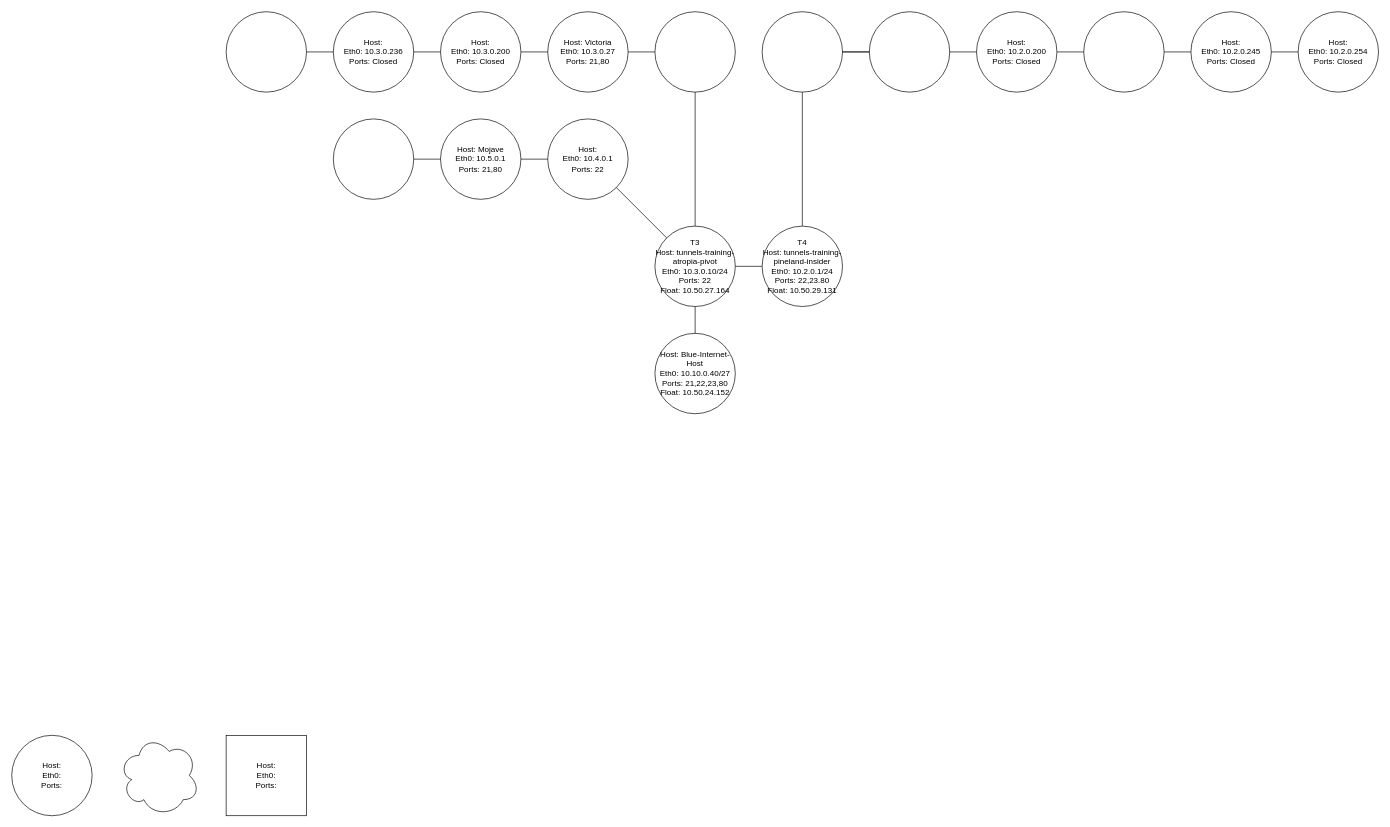
Some shapes in this 1390 by 827 pixel diagram are drawn without their labels. Each missing label, with the centre of its shape:
"Host: Atlantica Eth0: 10.2.0.3 Ports: 22,23" goes at (x=909, y=51).
"Host: Cortina Eth0: 10.3.0.1 Ports: 21,80" goes at (x=694, y=51).
"Host: Eth0: 10.2.0.201 Ports: Closed" goes at (x=1123, y=51).
"Host: Eth0: 10.3.0.254 Ports: Closed" goes at (x=266, y=51).
"Host: Mohammed Eth0: 10.2.0.2 Ports: 21,80" goes at (x=802, y=51).
"Host: Mojave Eth0: 10.5.0.57 Ports: 21" goes at (x=373, y=158).
